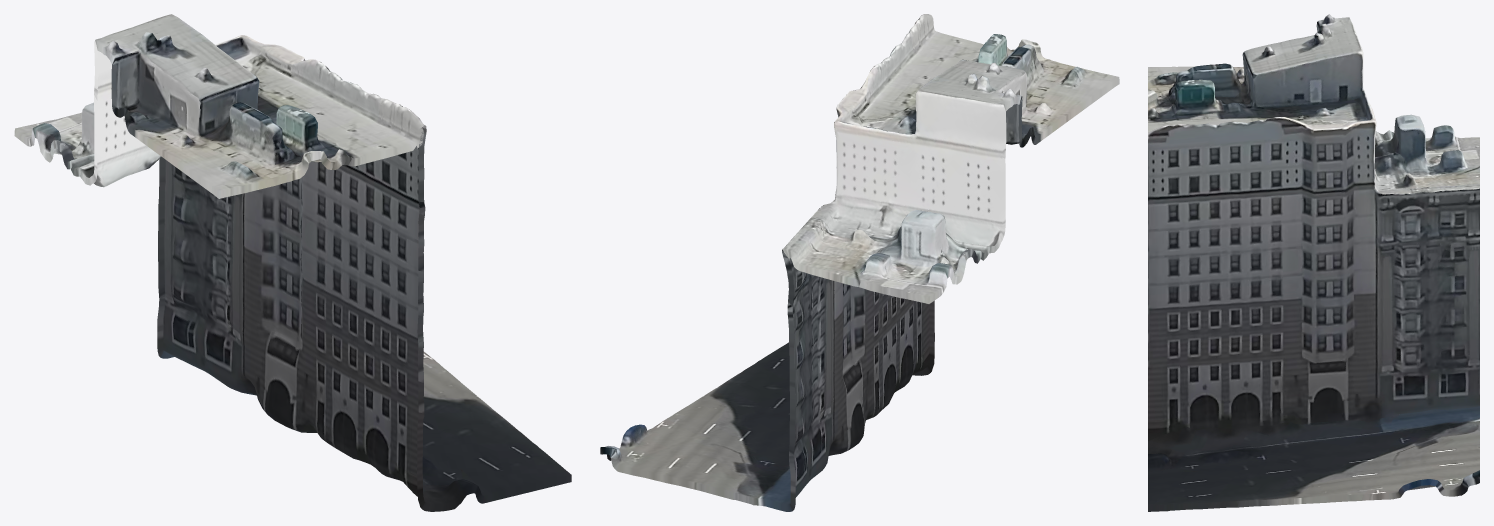
File: z20-167747-405240-h0-yup-uvflip-v3-world.glb
The picture shows the model from 3 angles, left to right: view 1: azimuth 30°, elevation 25°; view 2: azimuth 150°, elevation 25°; view 3: azimuth 270°, elevation 25°; orthographic projection. The views are drawn at different scales.
Size of the model in its own units: 30.2 by 36.6 by 30.32.
Materials: 1 (1 with a texture image).
